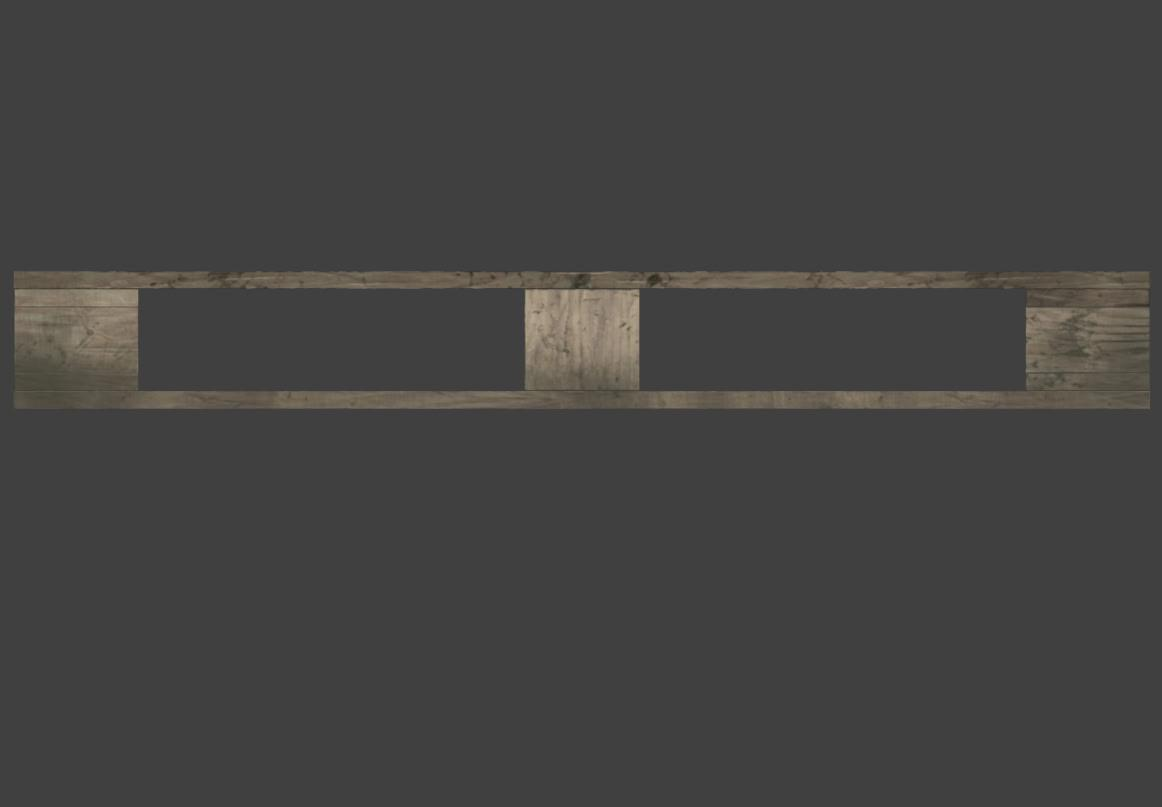palet: (9, 268, 1154, 418)
